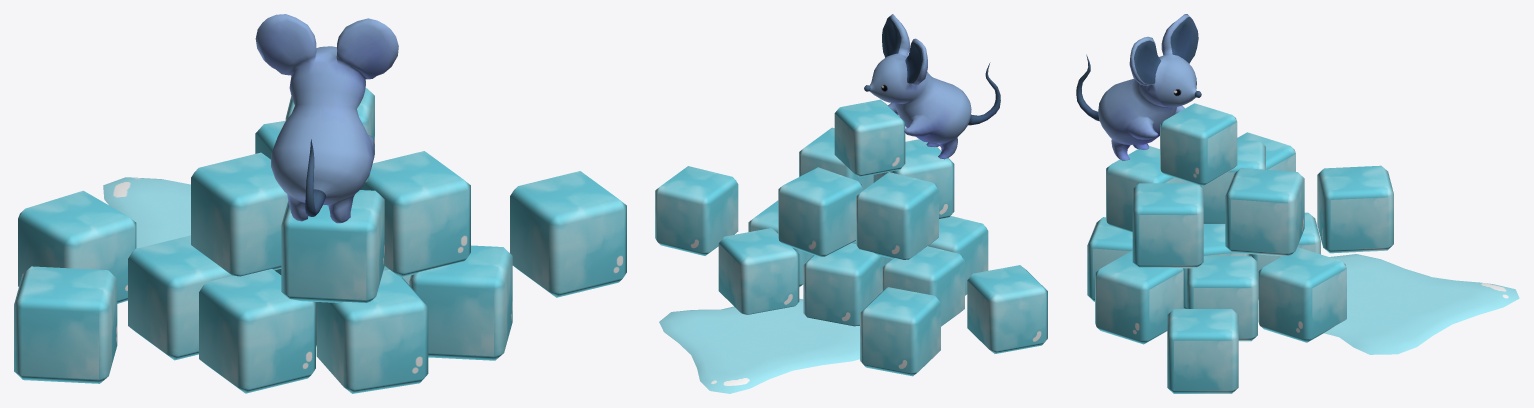
File: IceTower.obj
The picture shows the model from 3 angles, left to right: view 1: azimuth 30°, elevation 25°; view 2: azimuth 150°, elevation 25°; view 3: azimuth 270°, elevation 25°; orthographic projection. The views are drawn at different scales.
Visible parts, largest first — view 1: IceTower_1, Mouse7; view 2: IceTower_1, Mouse7; view 3: IceTower_1, Mouse7.
Boxes of the visible parts, <box> form: IceTower_1: <box>14,88,626,393</box>; Mouse7: <box>255,14,398,223</box>; IceTower_1: <box>655,99,1047,393</box>; Mouse7: <box>864,14,1000,159</box>; IceTower_1: <box>1087,103,1519,393</box>; Mouse7: <box>1076,14,1201,160</box>.
Size of the model in its own units: 3.69 by 2.17 by 3.38.
